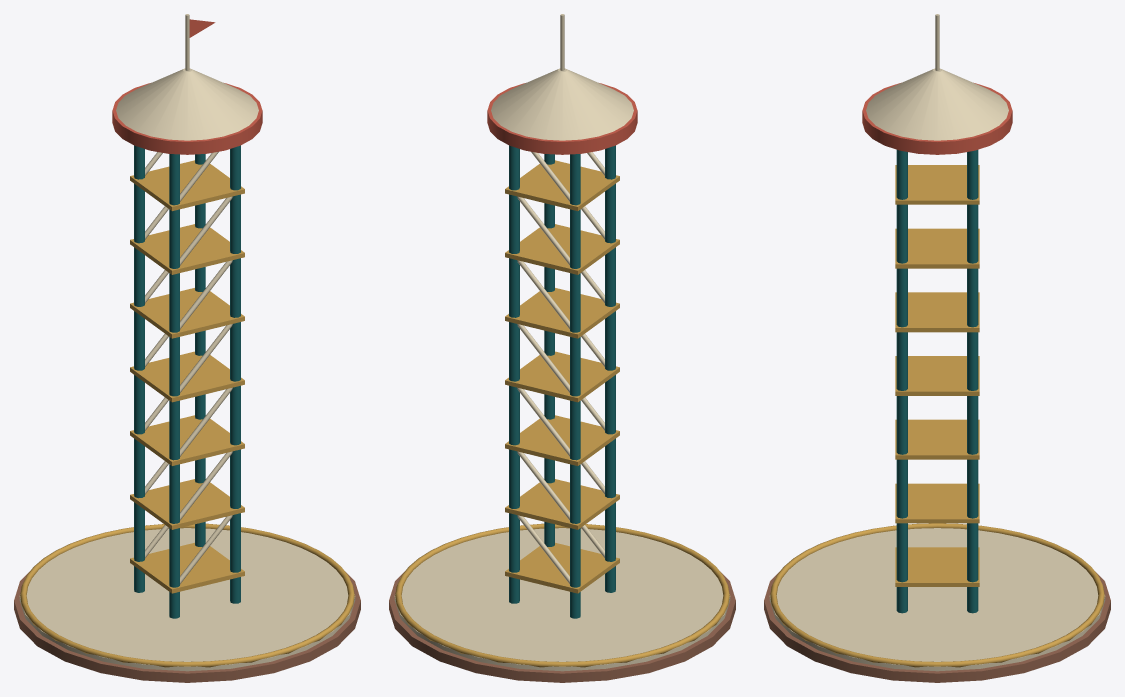
Rendered from ride_dropzone.glb.
3 renders of one model, left to right at view 1: azimuth 30°, elevation 25°; view 2: azimuth 150°, elevation 25°; view 3: azimuth 270°, elevation 25°, orthographic.
Parts seen in each view (by area): view 1: ride_dropzone; view 2: ride_dropzone; view 3: ride_dropzone.
Part boxes in pixels (x1=…): ride_dropzone: x1=14, y1=14, x2=360, y2=682; ride_dropzone: x1=389, y1=14, x2=735, y2=682; ride_dropzone: x1=764, y1=14, x2=1110, y2=682.
Size of the model in its own units: 7.4 by 14 by 7.4.
